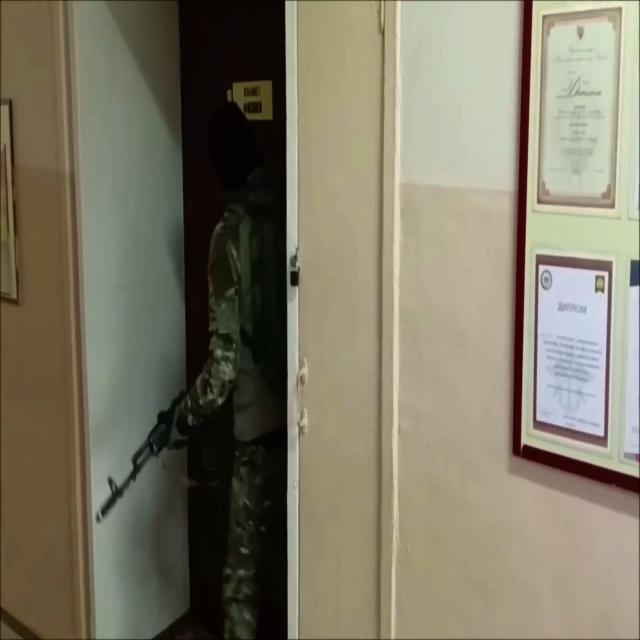gun: (93, 102, 286, 640), (94, 378, 220, 526)
